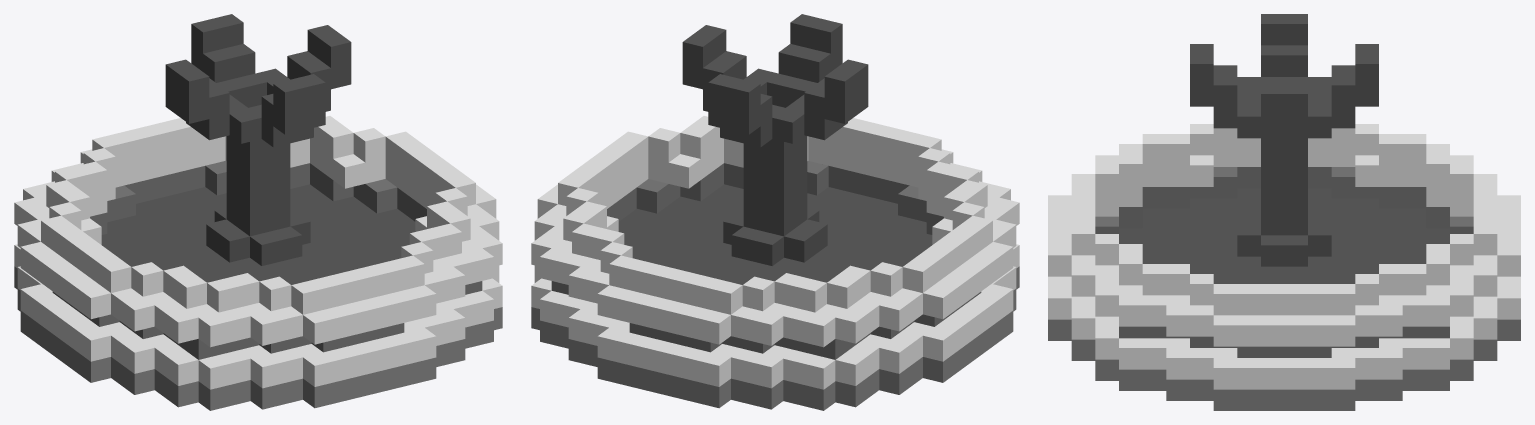
The model's file is --1-Fountain.obj.
The picture shows the model from 3 angles, left to right: view 1: azimuth 30°, elevation 25°; view 2: azimuth 150°, elevation 25°; view 3: azimuth 270°, elevation 25°; orthographic projection.
Visible parts, largest first — view 1: Fountain; view 2: Fountain; view 3: Fountain.
Boxes of the visible parts, x1,y1,x2,y2 form: Fountain: (14, 14, 502, 410); Fountain: (531, 14, 1019, 410); Fountain: (1048, 14, 1520, 410).
Size of the model in its own units: 2 by 1.2 by 2.
1 material, 1 textured.
